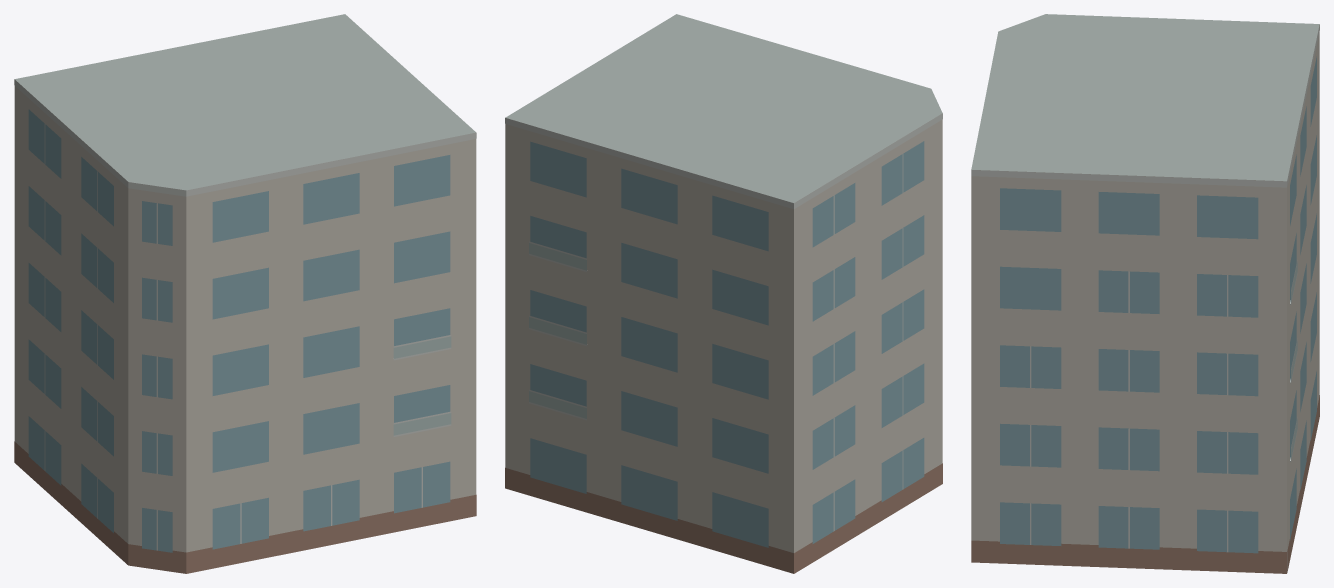
The model's file is survey-upis-33019644.glb.
3 renders of one model, left to right at view 1: azimuth 30°, elevation 25°; view 2: azimuth 150°, elevation 25°; view 3: azimuth 270°, elevation 25°, orthographic. The views are drawn at different scales.
Visible parts, largest first — view 1: survey-upis-33019644.tmp; view 2: survey-upis-33019644.tmp; view 3: survey-upis-33019644.tmp.
Boxes of the visible parts, x1,y1,x2,y2 form: survey-upis-33019644.tmp: [14, 14, 476, 573]; survey-upis-33019644.tmp: [505, 14, 942, 573]; survey-upis-33019644.tmp: [971, 14, 1319, 573].
Bounding box in the file's own units: 13.62 × 14.9 × 12.
